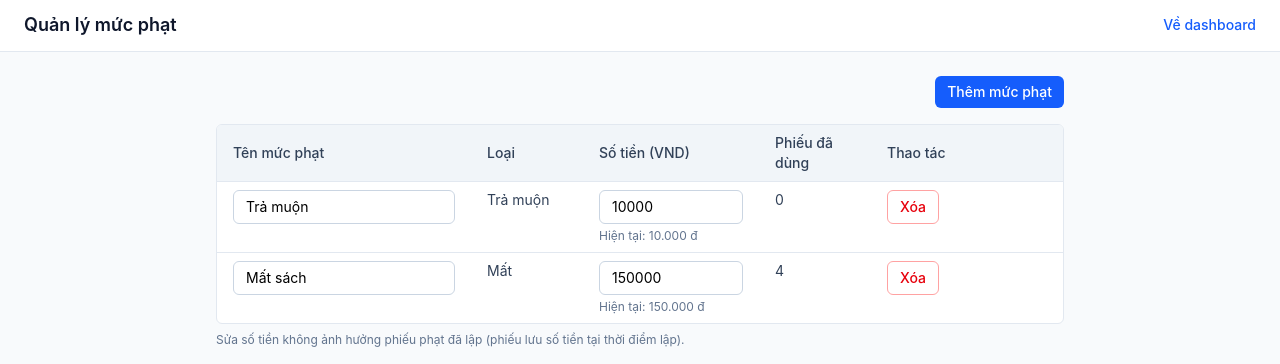
Test: FineTiersPage (2.5.1) › edge 4: xóa mức đã dùng → hộp thoại báo sẽ ẩn, hiện thông báo từ server và tải lại
This screenshot has width=1280, height=364.
Click the button with aria-label "Xóa Mất sách": (913, 278) [887,261,939,295]
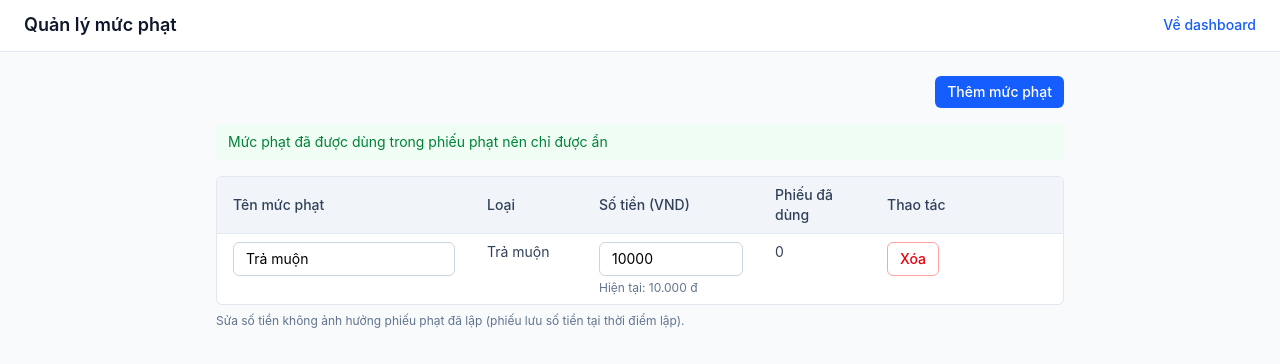
Result: the message shows "chỉ được ẩn" at [228,133,608,150]
